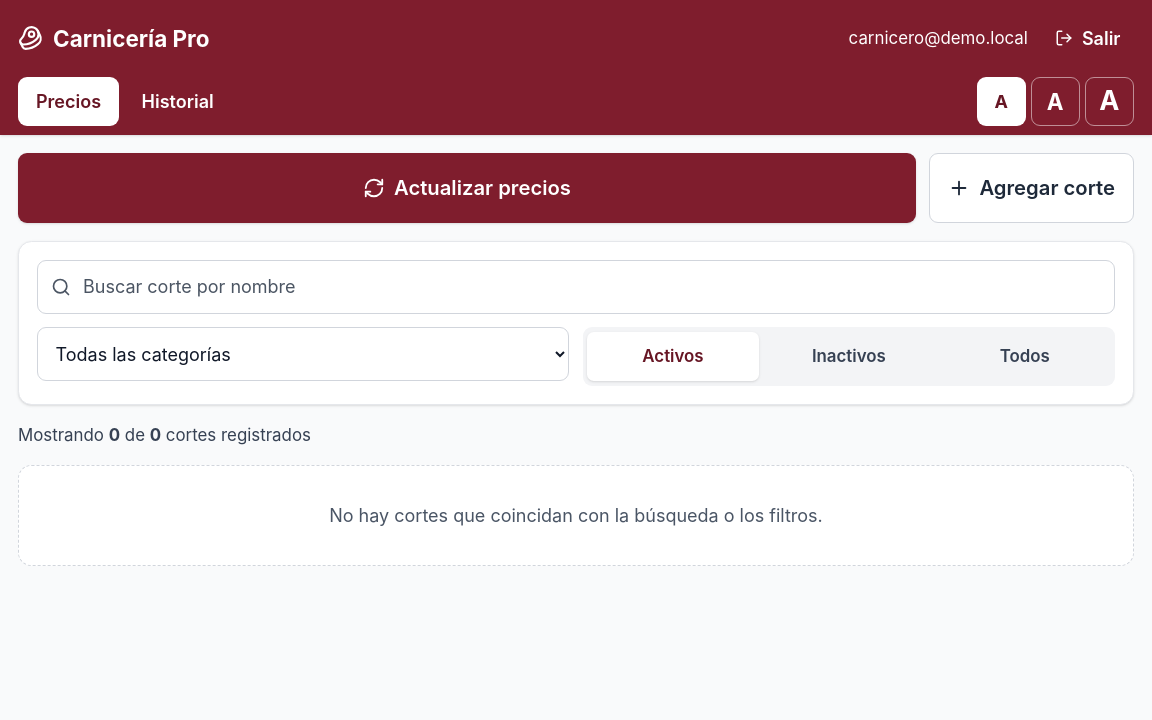
Test: rutas protegidas › cierra la sesión y vuelve al login
The width and height of the screenshot is (1152, 720).
Click the button "Salir" at (1088, 38), box [1041,14,1134,63]
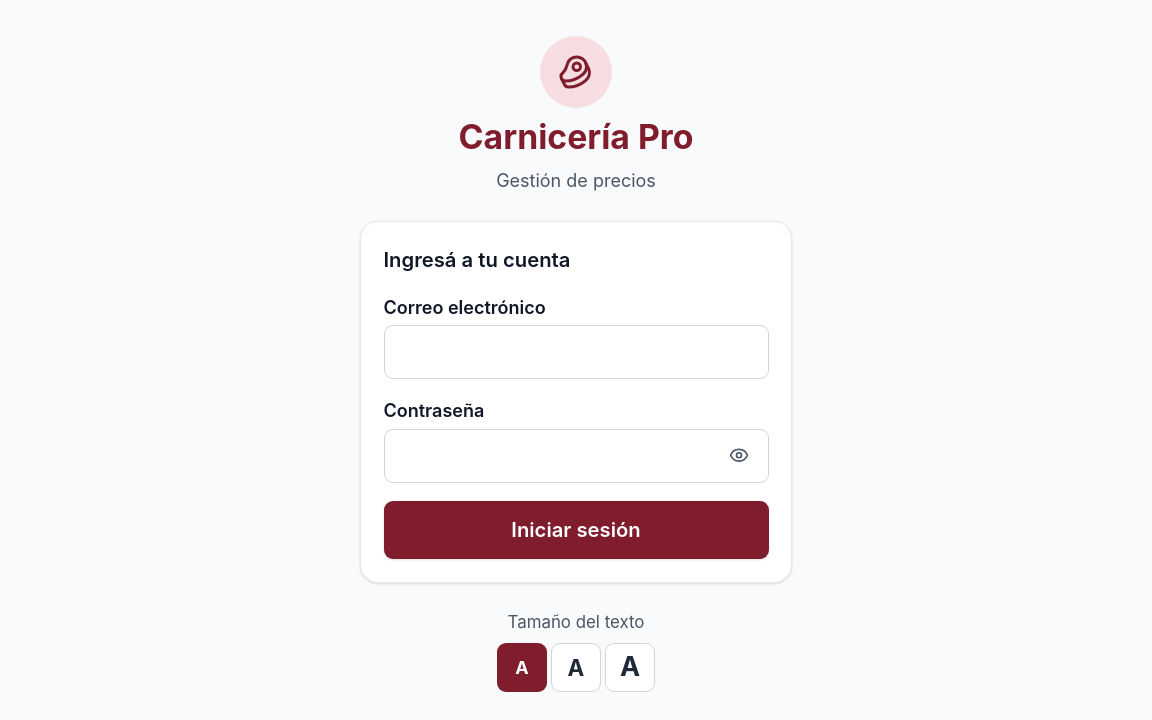
Check: the button "Iniciar sesión" is shown, box [384,500,768,559]
